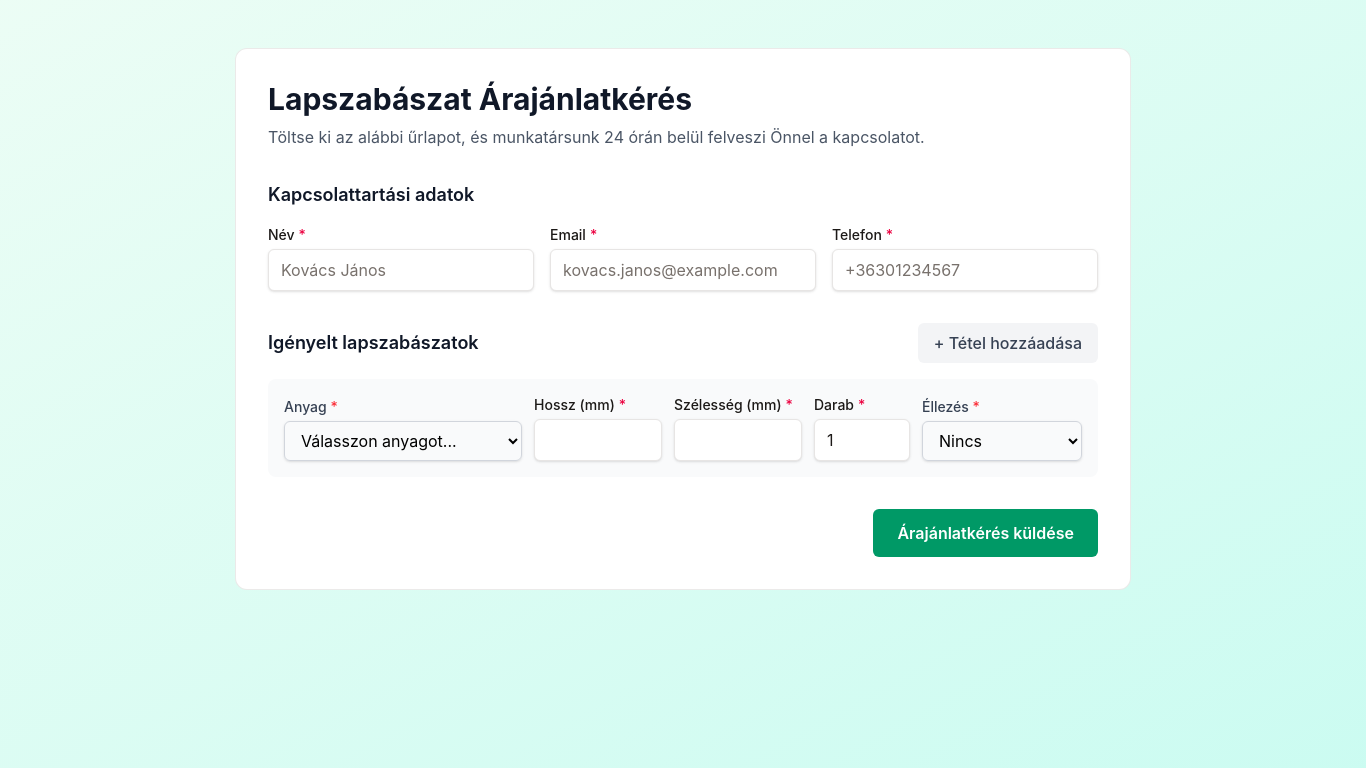
Test: PublicQuoteRequestPage › removes a piece input row
The image size is (1366, 768).
// Add a second row first
Click the button "+ Tétel hozzáadása".
click(1008, 343)  # box top-left (918, 323), bottom-right (1098, 363)
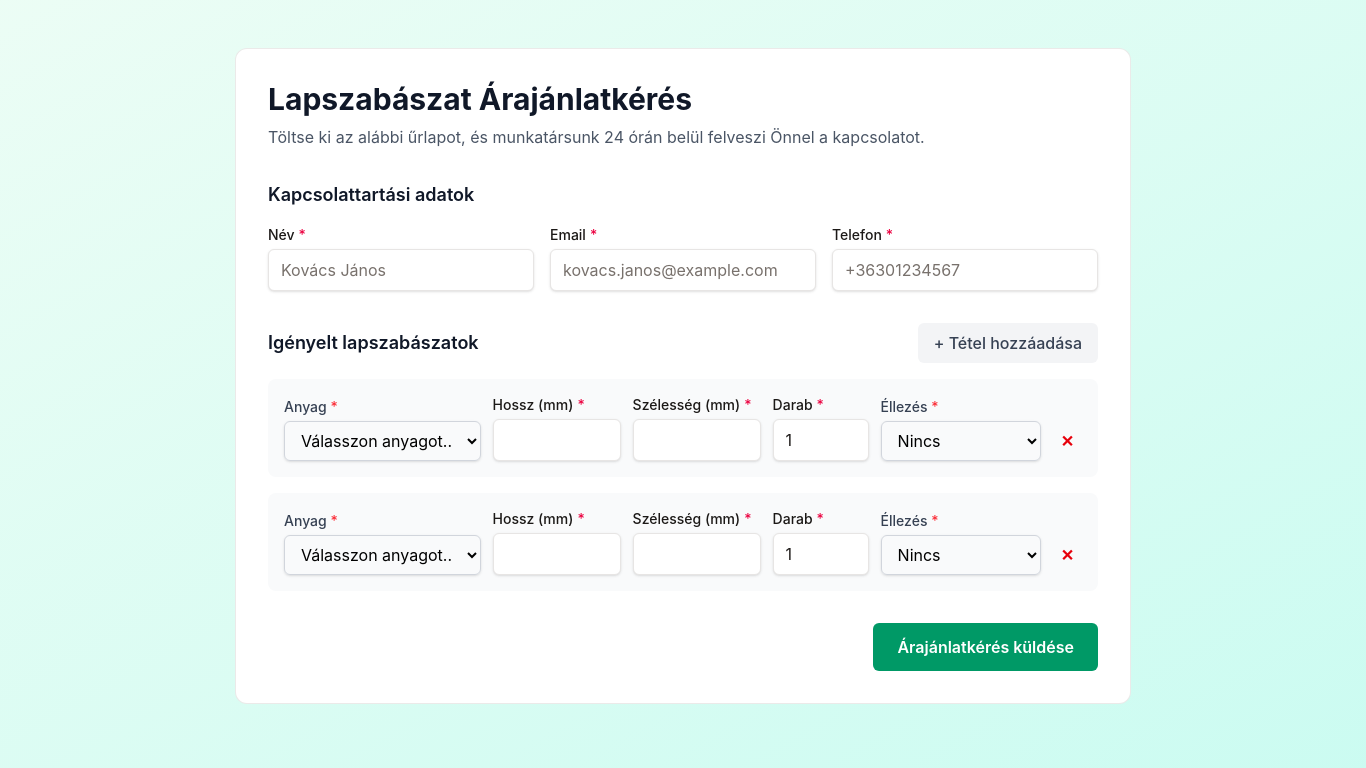
Result: the number of dropdowns labelled "Anyag *" is 2 at top-left (284, 421), bottom-right (481, 461); top-left (284, 535), bottom-right (481, 575)
Result: the number of buttons named "Tétel törlése" is 2
// Click remove on the first row
Click the button named "Tétel törlése".
click(1067, 441)  # box top-left (1053, 421), bottom-right (1082, 461)
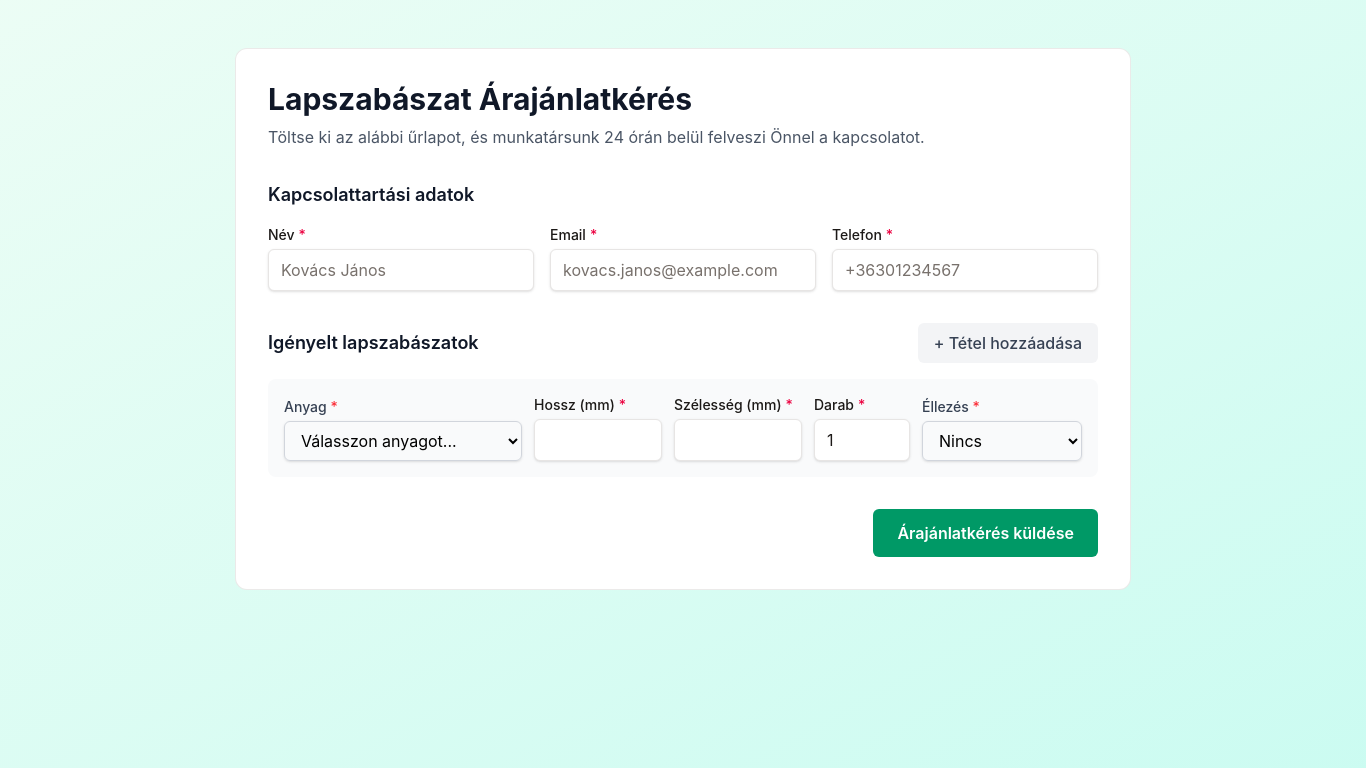
Result: the number of dropdowns labelled "Anyag *" is 1 at top-left (284, 421), bottom-right (522, 461)
